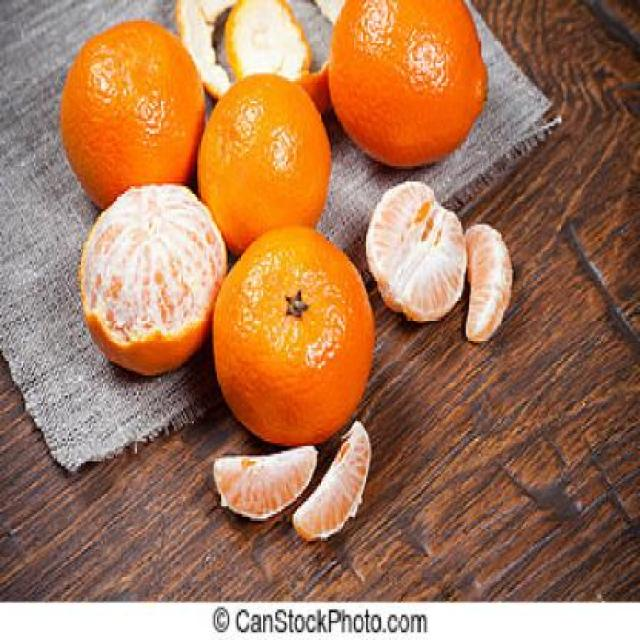Orange: (211, 223, 375, 446), (57, 17, 205, 209), (326, 0, 488, 168), (195, 72, 331, 252)
